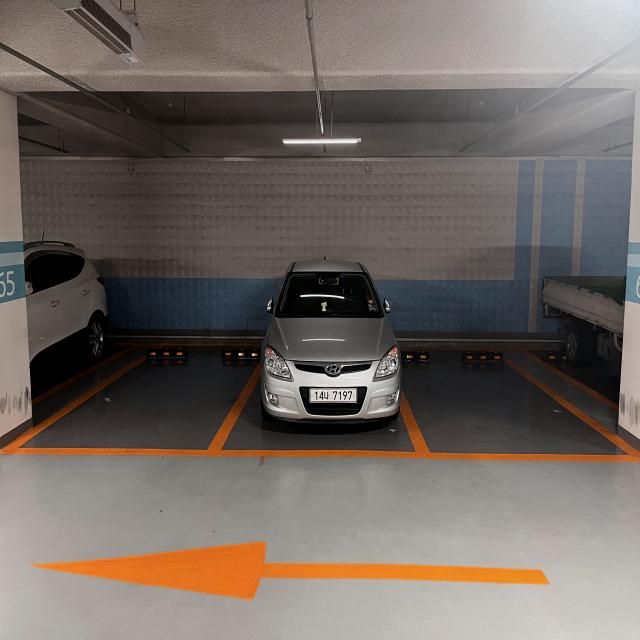empty: (0, 341, 268, 455), (399, 345, 640, 455)
occupied: (256, 248, 411, 458)
